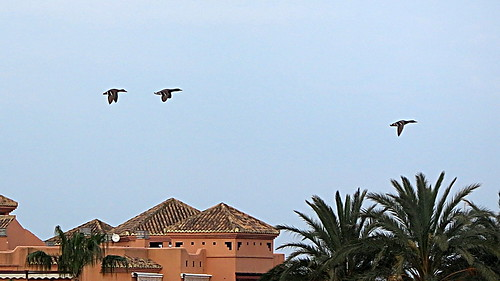animal: (385, 113, 419, 140), (151, 81, 184, 105), (97, 83, 130, 106)
building: (1, 188, 281, 281)
sky: (1, 1, 497, 188)
tree: (283, 176, 500, 281)
